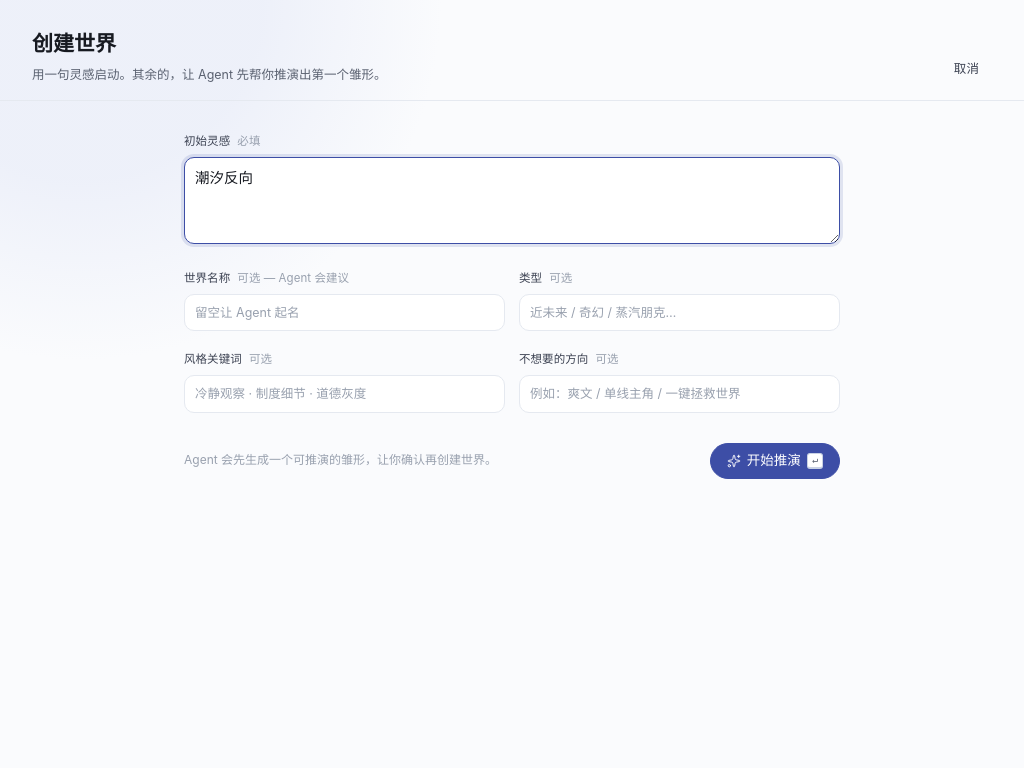
Test: WorldsView layout › does not expose the inert edit-after-create button in confirm state
Click the button "开始推演 ↵".
click(775, 461)  # box [710, 443, 840, 479]
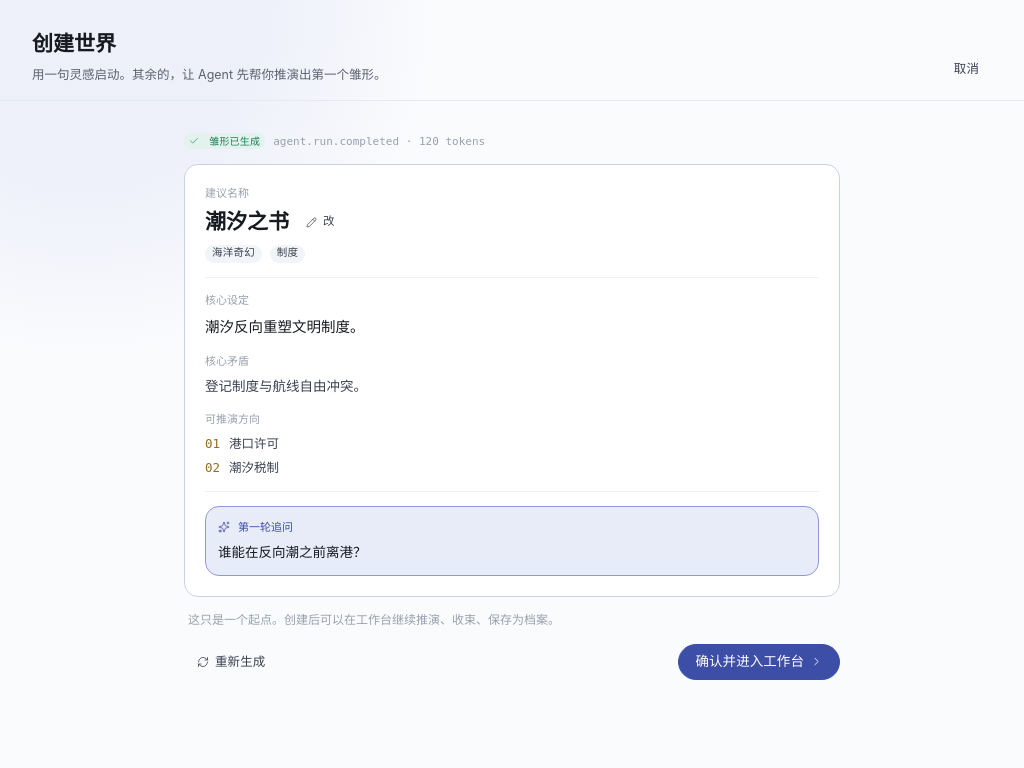
Now the text "雏形已生成" is shown, box [184, 133, 265, 149]
Now the button "确认并进入工作台" is shown, box [678, 644, 840, 680]
